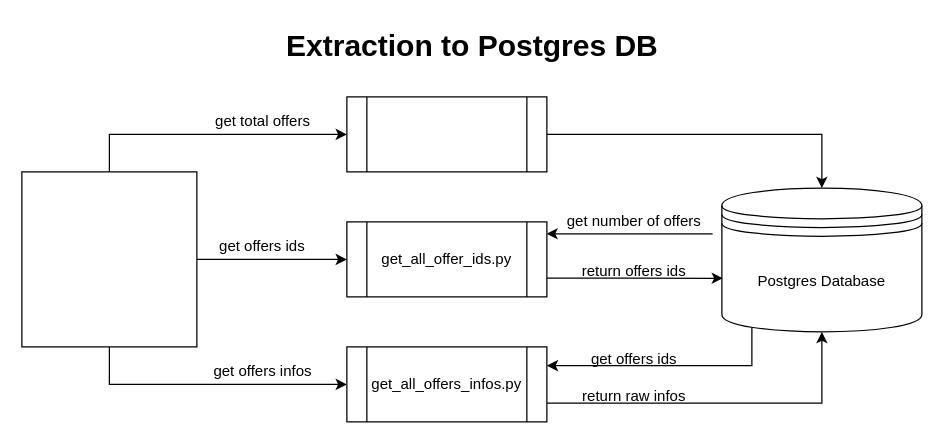
Image size: 944x444. Some labels were removed from this diagram. The centre of each missing label's shape, as x and y in pixels:
"get_oofers_by_city.py" belongs at [446,134].
"immonet.de" belongs at [109,259].
